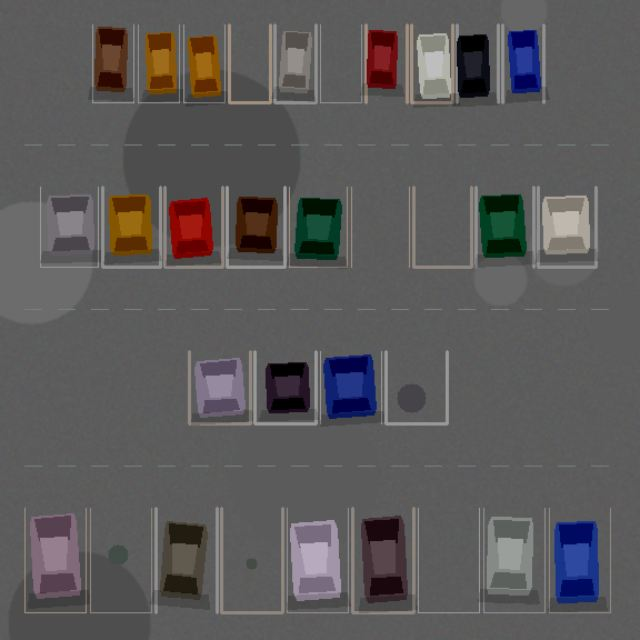space-empty: (90, 508, 151, 612), (221, 508, 282, 612), (418, 508, 479, 612), (351, 187, 409, 267), (413, 187, 471, 267), (386, 351, 447, 423), (229, 24, 270, 102), (320, 24, 361, 102)
space-occupied: (24, 508, 86, 612), (156, 508, 217, 612), (287, 508, 348, 612), (352, 508, 413, 612), (483, 508, 544, 612), (549, 508, 610, 612), (40, 187, 98, 267), (102, 187, 160, 267), (164, 187, 222, 267), (289, 187, 347, 267), (538, 187, 596, 267), (227, 187, 284, 267), (476, 187, 533, 267), (254, 351, 316, 423), (189, 351, 250, 423), (320, 351, 381, 423), (274, 24, 316, 102), (92, 24, 133, 102), (138, 24, 179, 102), (183, 24, 224, 102), (366, 24, 407, 102), (411, 24, 452, 102), (457, 24, 498, 102), (502, 24, 543, 102)
